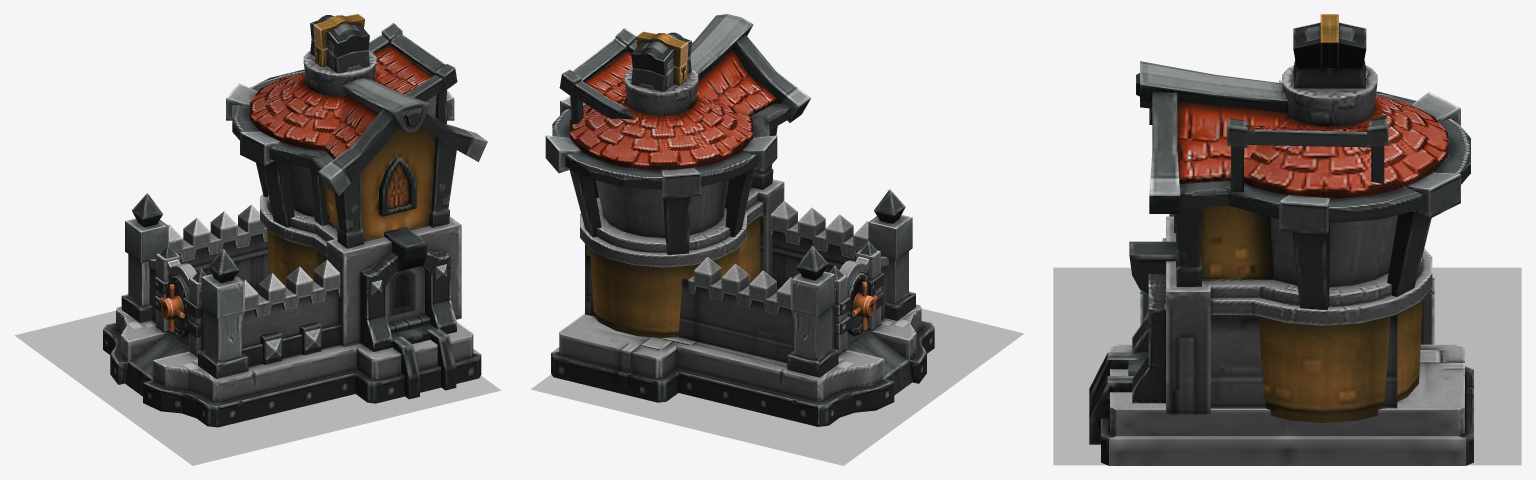
Rendered from C_Treasury_LV4.fbx.
The picture shows the model from 3 angles, left to right: view 1: azimuth 30°, elevation 25°; view 2: azimuth 150°, elevation 25°; view 3: azimuth 270°, elevation 25°; orthographic projection. The views are drawn at different scales.
Visible parts, largest first — view 1: Teasury_LV04_0_mesh, Teasury_LV04_1_mesh; view 2: Teasury_LV04_0_mesh, Teasury_LV04_1_mesh; view 3: Teasury_LV04_0_mesh, Teasury_LV04_1_mesh.
Part boxes in pixels (box(x1,y1,x2,y2)): Teasury_LV04_0_mesh: box(103, 14, 487, 427); Teasury_LV04_1_mesh: box(14, 310, 501, 465); Teasury_LV04_0_mesh: box(545, 14, 934, 426); Teasury_LV04_1_mesh: box(531, 308, 1023, 465); Teasury_LV04_0_mesh: box(1089, 14, 1473, 465); Teasury_LV04_1_mesh: box(1053, 267, 1521, 465).
Bounding box in the file's own units: 137 × 115 × 120.
